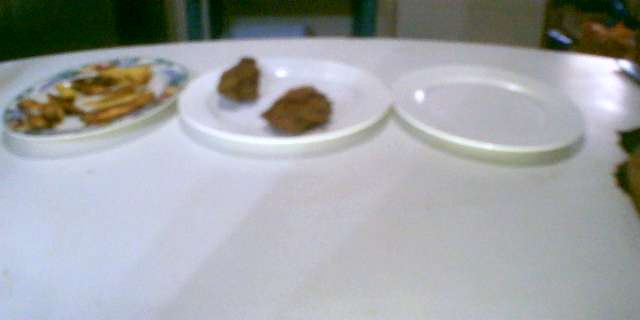chicken: (259, 82, 335, 139), (209, 51, 266, 107)
empty_plate: (390, 54, 592, 158)
potatoe_fries: (12, 58, 163, 134)
